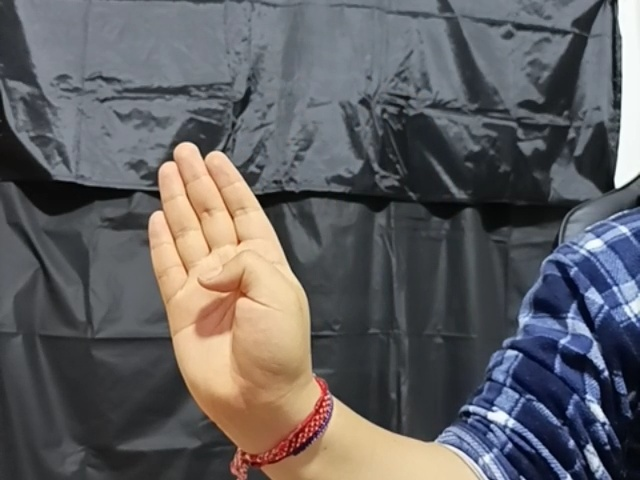B: (145, 138, 325, 398)
